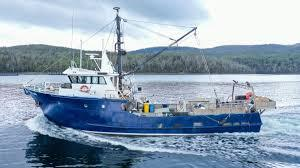Ship: (25, 8, 277, 135)
